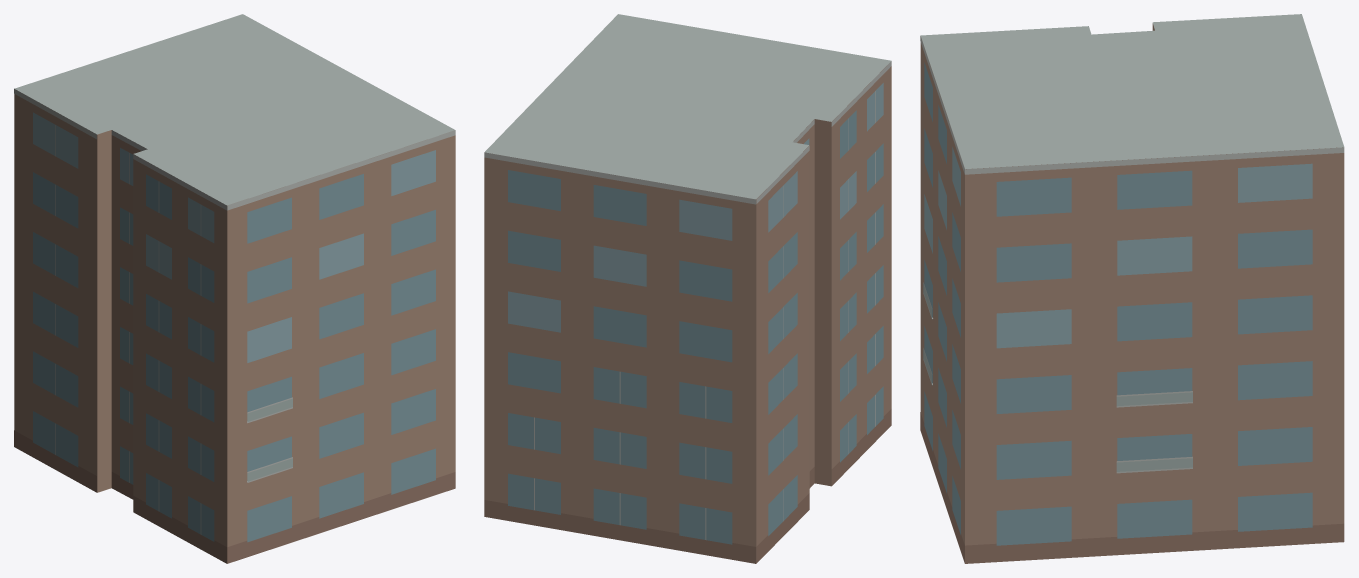
Rendered from survey-upis-32531878.glb.
3 views of the same model, side by side, from view 1: azimuth 30°, elevation 25°; view 2: azimuth 150°, elevation 25°; view 3: azimuth 270°, elevation 25° (orthographic). The views are drawn at different scales.
Parts seen in each view (by area): view 1: survey-upis-32531878.tmp; view 2: survey-upis-32531878.tmp; view 3: survey-upis-32531878.tmp.
Part boxes in pixels (x1=…): survey-upis-32531878.tmp: x1=14, y1=14, x2=455, y2=563; survey-upis-32531878.tmp: x1=484, y1=14, x2=891, y2=563; survey-upis-32531878.tmp: x1=920, y1=14, x2=1344, y2=563.
Bounding box in the file's own units: 14.59 × 17.3 × 16.85.
